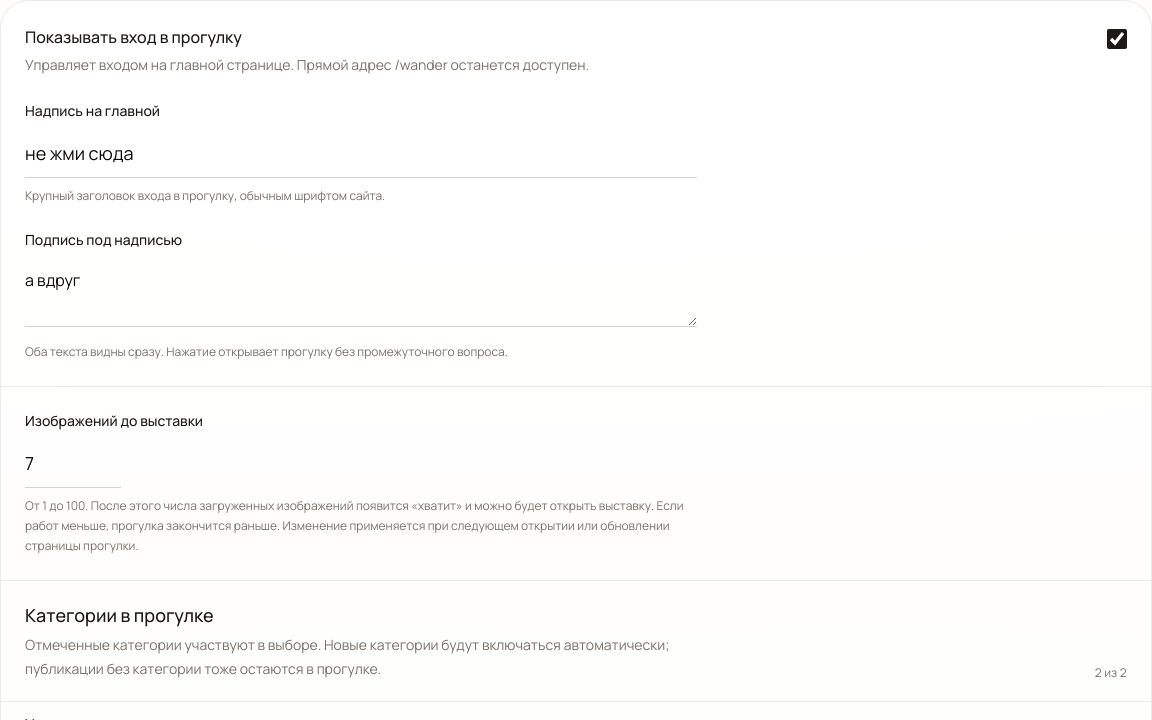
it: настройки прогулки › не отправляет некорректное количество 0
Replace the text in the number field labelled "Изображений до выставки" with "0": (73, 463) top-left (25, 438), bottom-right (121, 488)
(page scrolled)
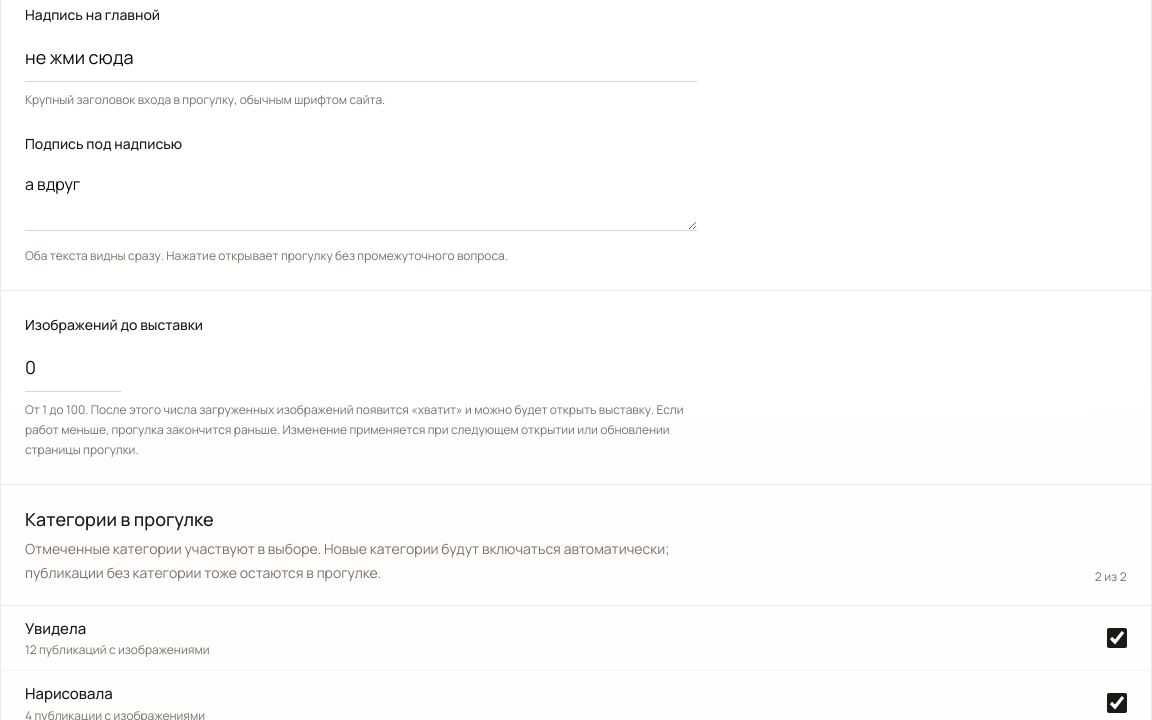
Submit the form
(page scrolled)
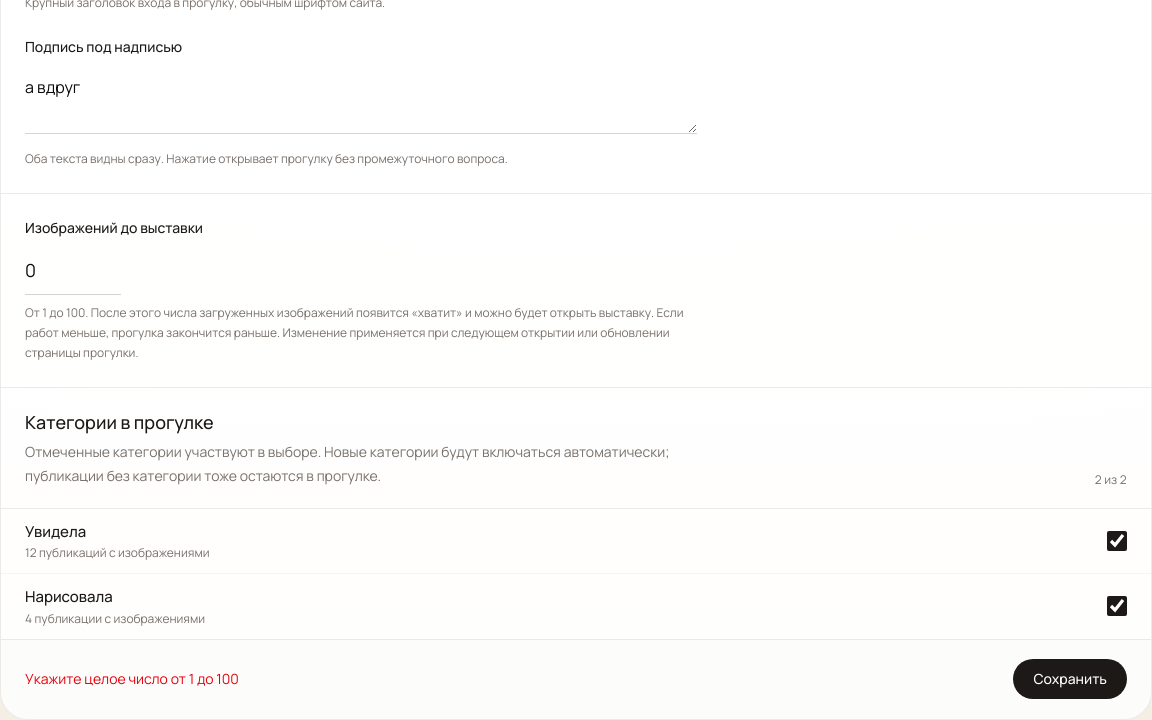
Expected: the message reads "Укажите целое число от 1 до 100", top-left (25, 669), bottom-right (239, 688)
